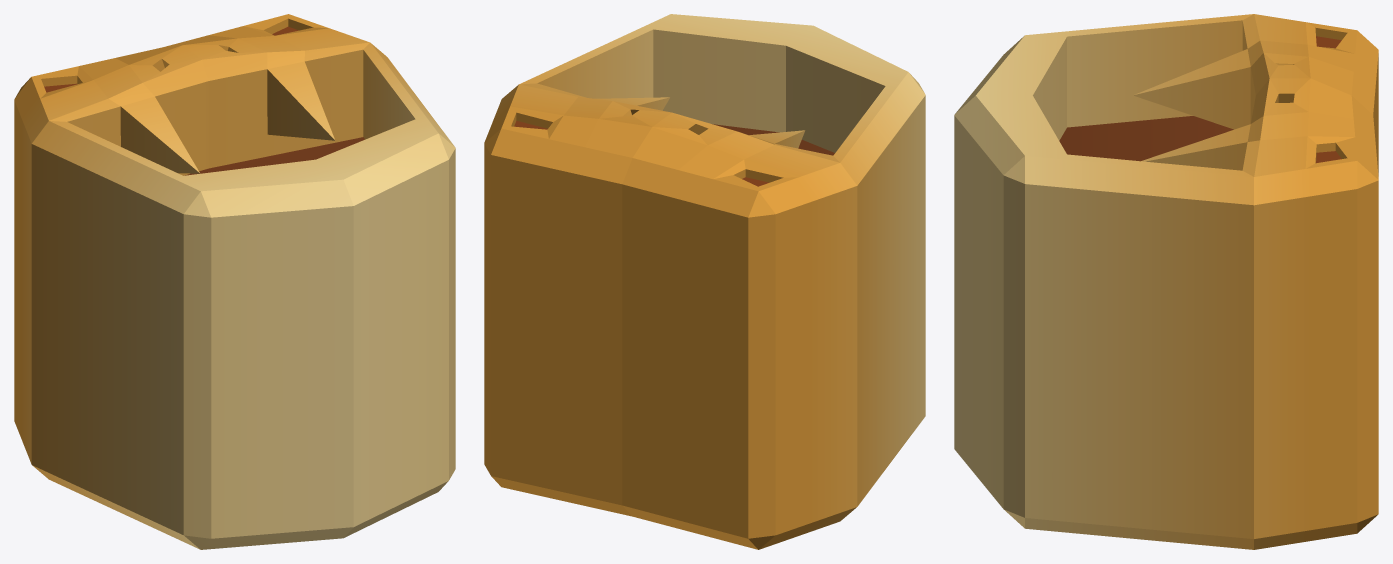
File: Tile_Snake.fbx
3 renders of one model, left to right at view 1: azimuth 30°, elevation 25°; view 2: azimuth 150°, elevation 25°; view 3: azimuth 270°, elevation 25°, orthographic. The views are drawn at different scales.
Parts seen in each view (by area): view 1: Snake Tile; view 2: Snake Tile; view 3: Snake Tile.
Part boxes in pixels (x1=…): Snake Tile: x1=14, y1=14, x2=455, y2=549; Snake Tile: x1=484, y1=14, x2=925, y2=549; Snake Tile: x1=954, y1=14, x2=1378, y2=549.
Size of the model in its own units: 0.9916 by 0.9994 by 0.986.
1 material, 1 textured.
